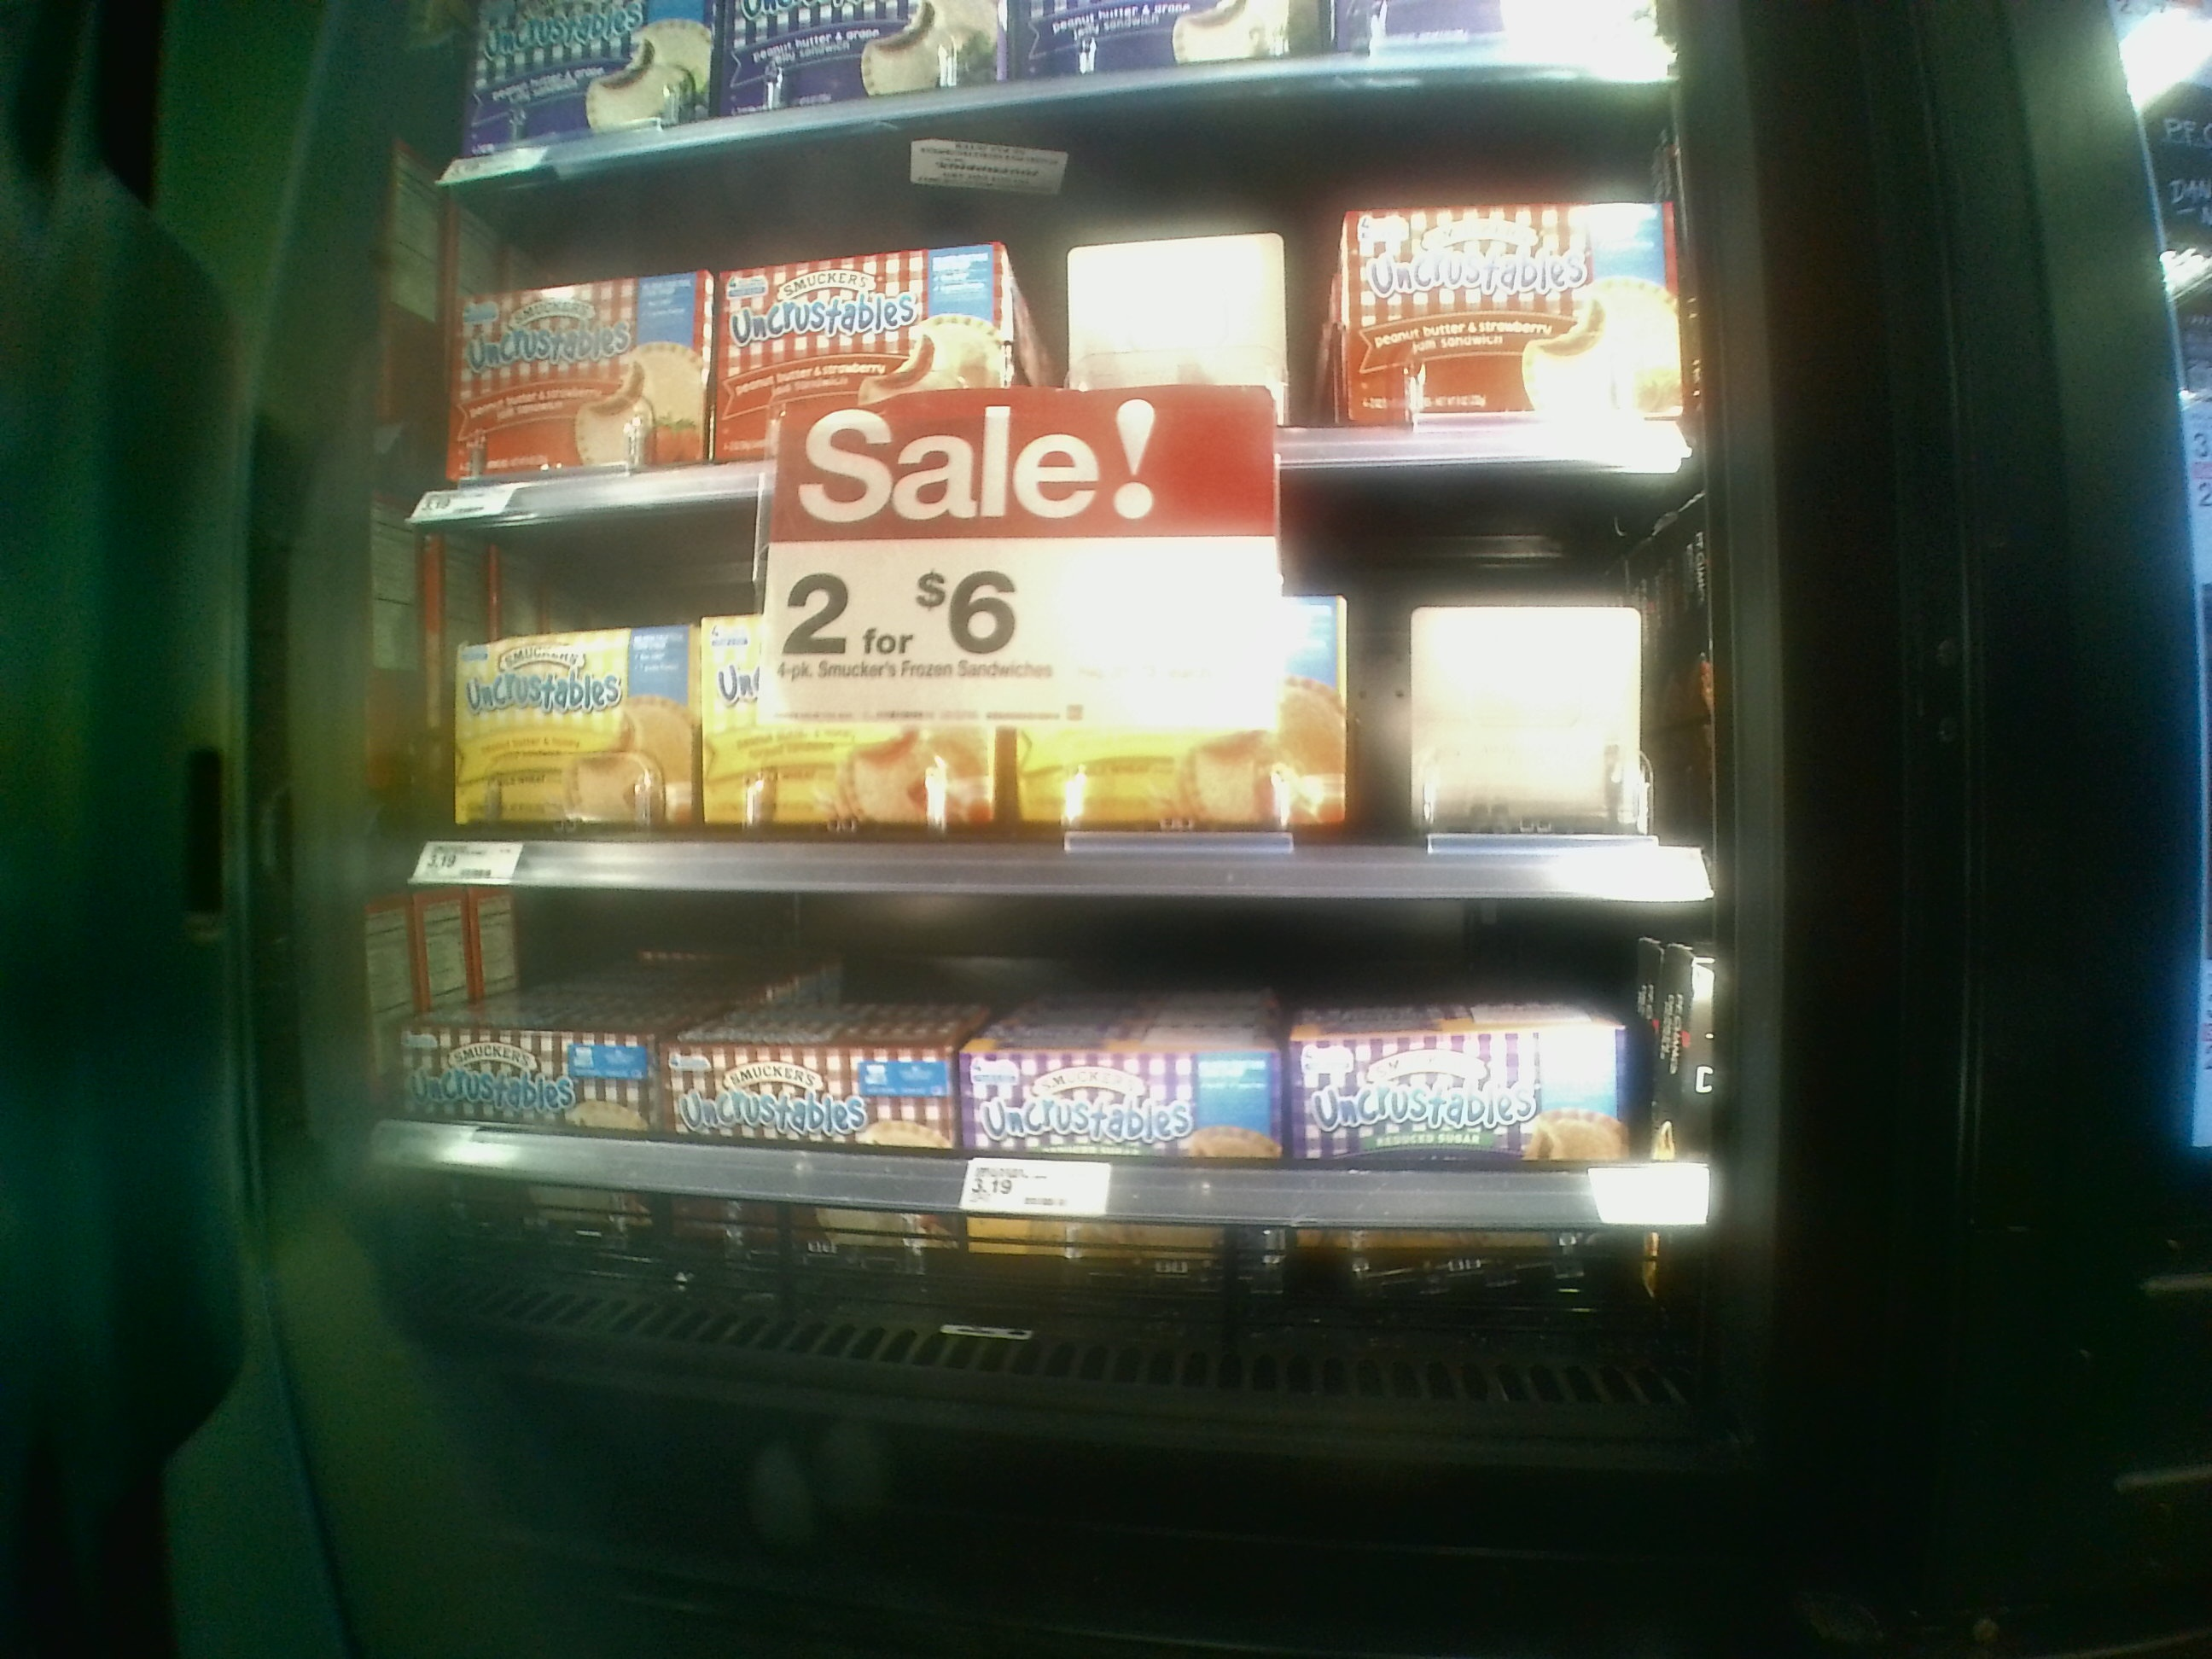shelf: (371, 854, 1683, 1384), (409, 486, 1695, 903), (423, 171, 1667, 481)
